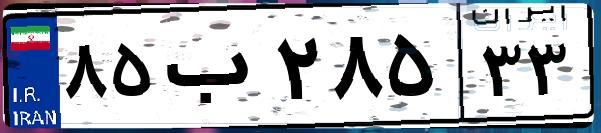2: (270, 28, 330, 110)
3: (475, 38, 525, 113), (525, 38, 570, 115)
5: (385, 28, 445, 110), (110, 28, 158, 98)
8: (330, 28, 385, 110), (57, 26, 110, 100)
ب: (158, 20, 270, 120)
